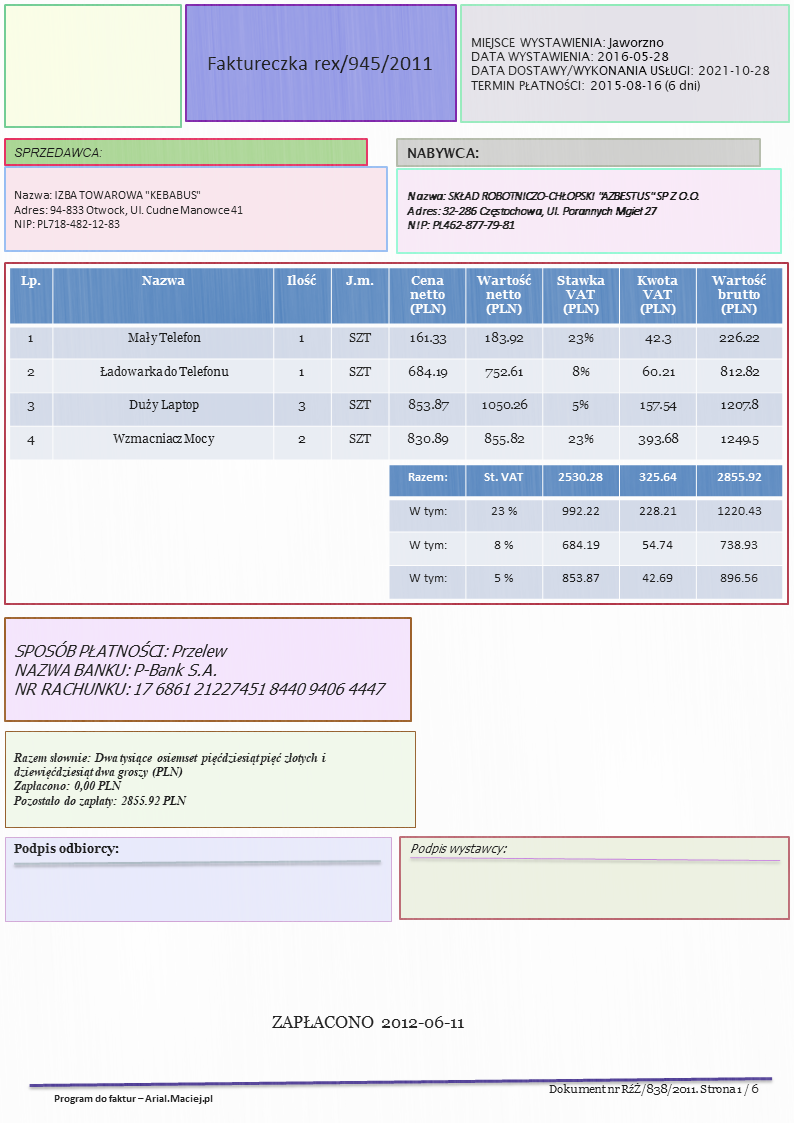Table: (8, 266, 783, 462), (388, 463, 784, 601)
TextBox: (13, 641, 387, 701), (10, 749, 328, 809), (468, 34, 772, 95), (403, 188, 701, 233), (10, 186, 245, 231), (203, 52, 433, 77), (547, 1080, 761, 1100), (267, 1013, 466, 1032), (51, 1091, 215, 1105), (11, 840, 122, 858), (408, 840, 507, 858), (11, 143, 104, 161), (404, 143, 480, 162)
